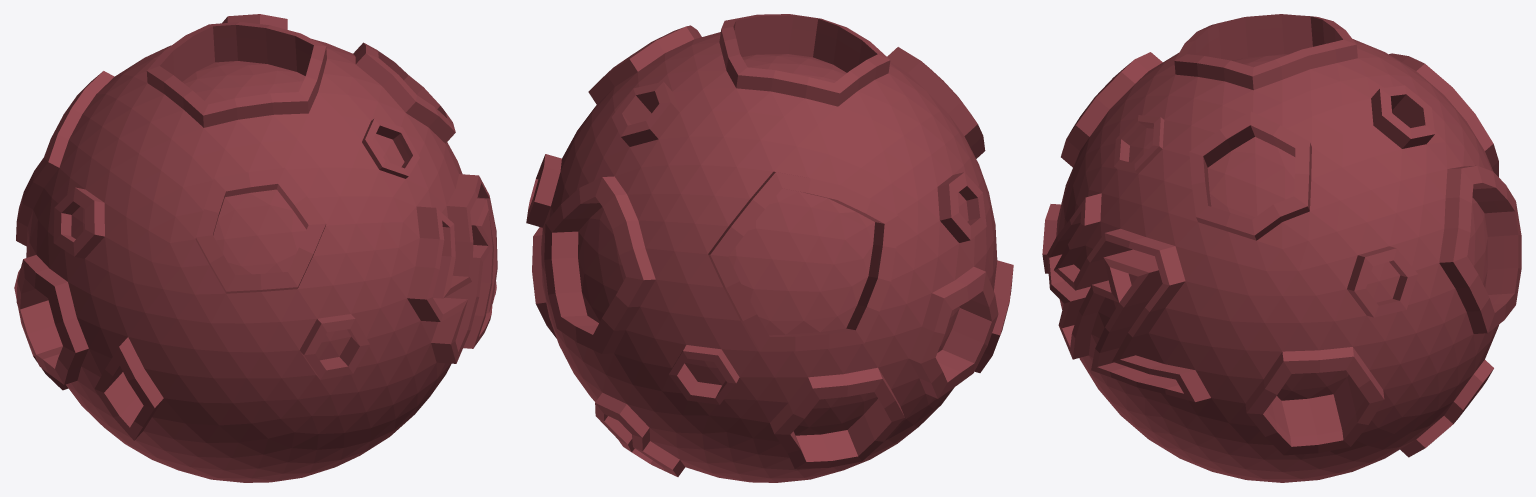
The model's file is Break_Rock1.glb.
3 renders of one model, left to right at view 1: azimuth 30°, elevation 25°; view 2: azimuth 150°, elevation 25°; view 3: azimuth 270°, elevation 25°, orthographic.
Visible parts, largest first — view 1: Icosphere; view 2: Icosphere; view 3: Icosphere.
Boxes of the visible parts, left/top/right/bottom form: Icosphere: left=14, top=14, right=497, bottom=482; Icosphere: left=526, top=14, right=1013, bottom=482; Icosphere: left=1042, top=14, right=1521, bottom=482.
Bounding box in the file's own units: 2.12 × 2.05 × 2.1.
